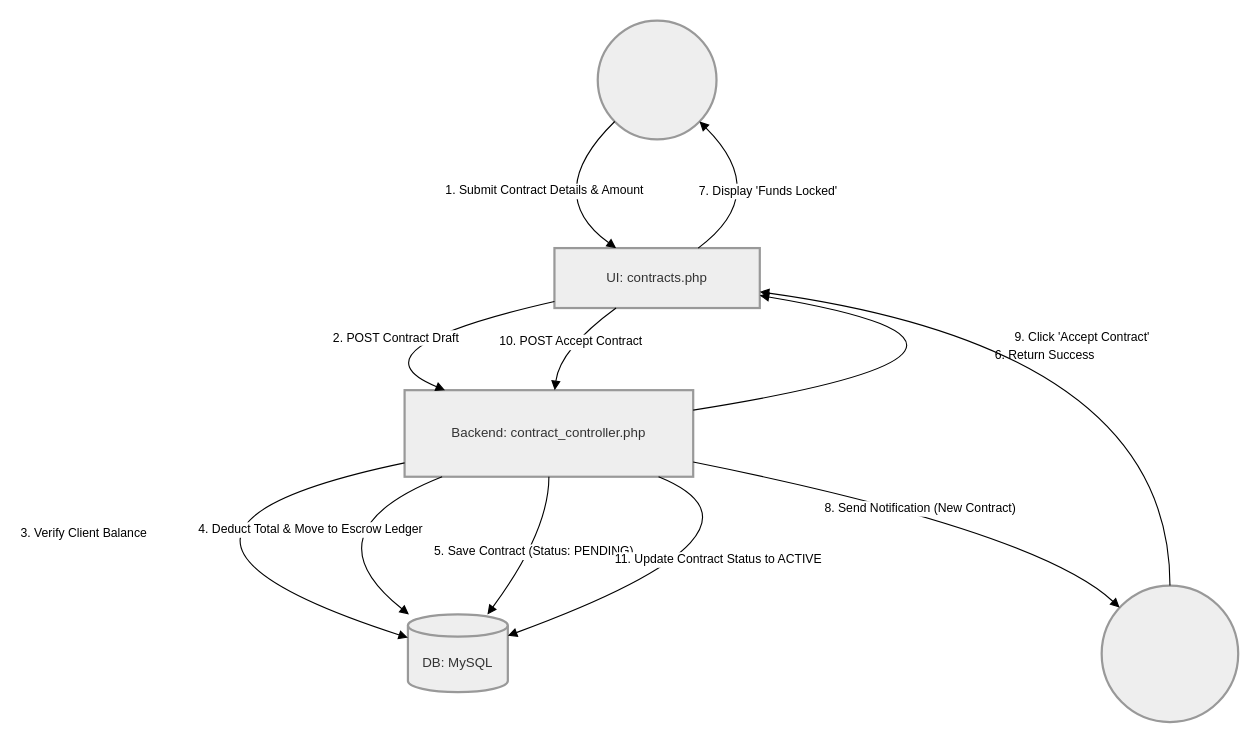
Some shapes in this 1258 by 741 pixel diagram are drawn without their labels. The shapes that lost their labels are listed below. From the top down, each one's centre as x and y in pixels, then its label:
At [656,79]: "Actor: Client".
At [1169,653]: "Actor: Provider".
